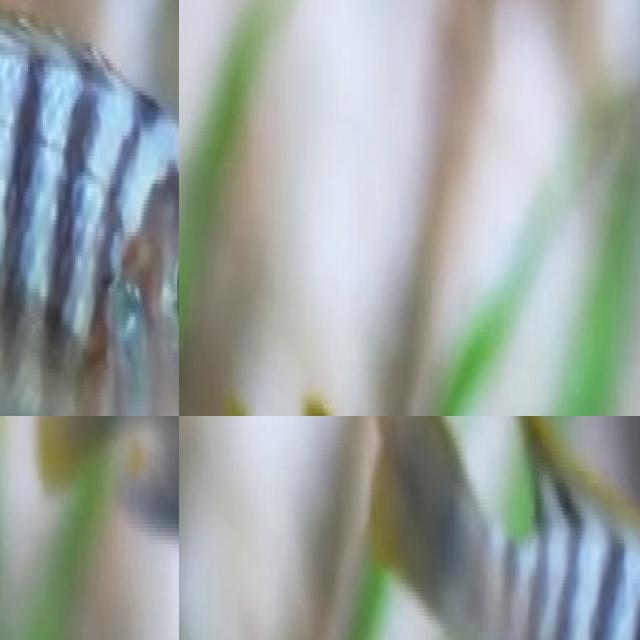fish: (0, 0, 179, 416), (354, 416, 640, 640)
